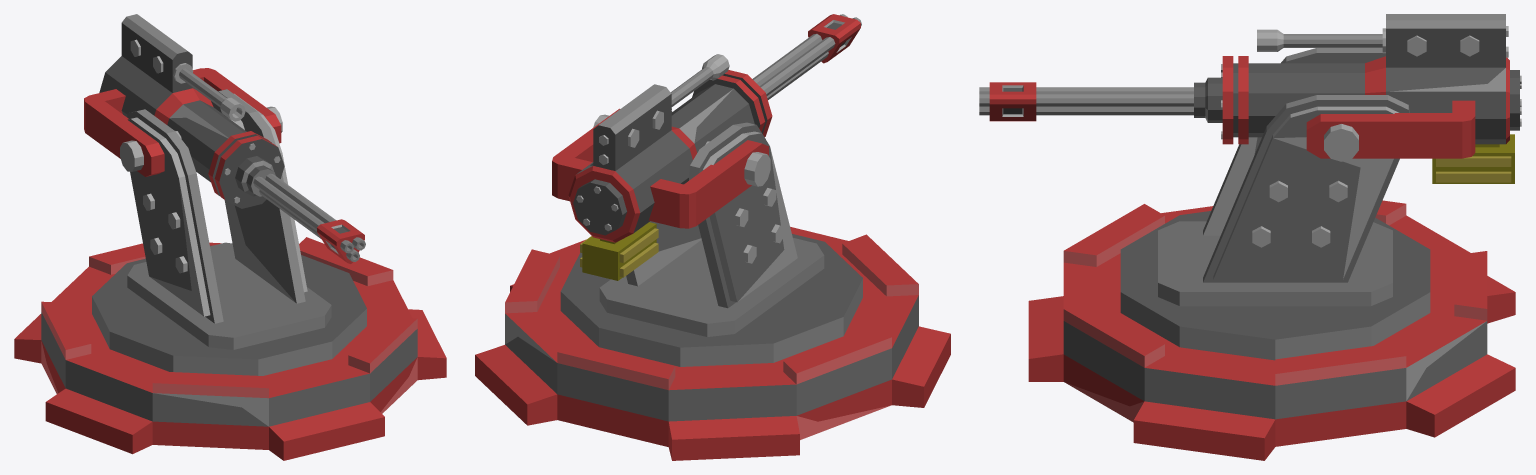
Rendered from tower_minigun_red_2.fbx.
3 renders of one model, left to right at view 1: azimuth 30°, elevation 25°; view 2: azimuth 150°, elevation 25°; view 3: azimuth 270°, elevation 25°, orthographic. The views are drawn at different scales.
Visible parts, largest first — view 1: top_minigun_red_2, tower_minigun_red_2; view 2: top_minigun_red_2, tower_minigun_red_2; view 3: top_minigun_red_2, tower_minigun_red_2.
Part boxes in pixels (x1,y1,x2,y2): top_minigun_red_2: (84,14,366,375); tower_minigun_red_2: (14,237,446,460); top_minigun_red_2: (552,14,862,366); tower_minigun_red_2: (475,226,950,460); top_minigun_red_2: (979,14,1521,360); tower_minigun_red_2: (1028,200,1515,460).
Bounding box in the file's own units: 167 × 120 × 177.
